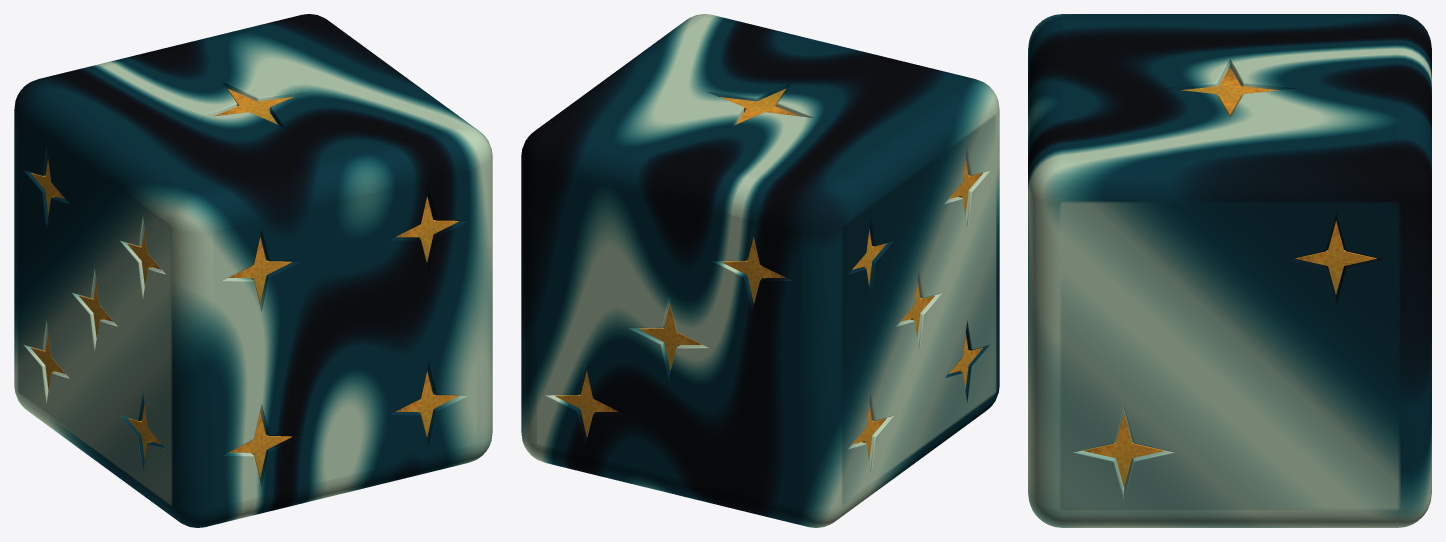
File: nautical-sailor.glb
The picture shows the model from 3 angles, left to right: view 1: azimuth 30°, elevation 25°; view 2: azimuth 150°, elevation 25°; view 3: azimuth 270°, elevation 25°; orthographic projection. The views are drawn at different scales.
Parts seen in each view (by area): view 1: MM_Die_nautical-sailor; view 2: MM_Die_nautical-sailor; view 3: MM_Die_nautical-sailor.
Part boxes in pixels (x1,y1,x2,y2): MM_Die_nautical-sailor: (14, 14, 492, 527); MM_Die_nautical-sailor: (521, 14, 999, 527); MM_Die_nautical-sailor: (1028, 14, 1431, 527).
Size of the model in its own units: 0.0295 by 0.0295 by 0.0295.
2 materials, 2 textured.
